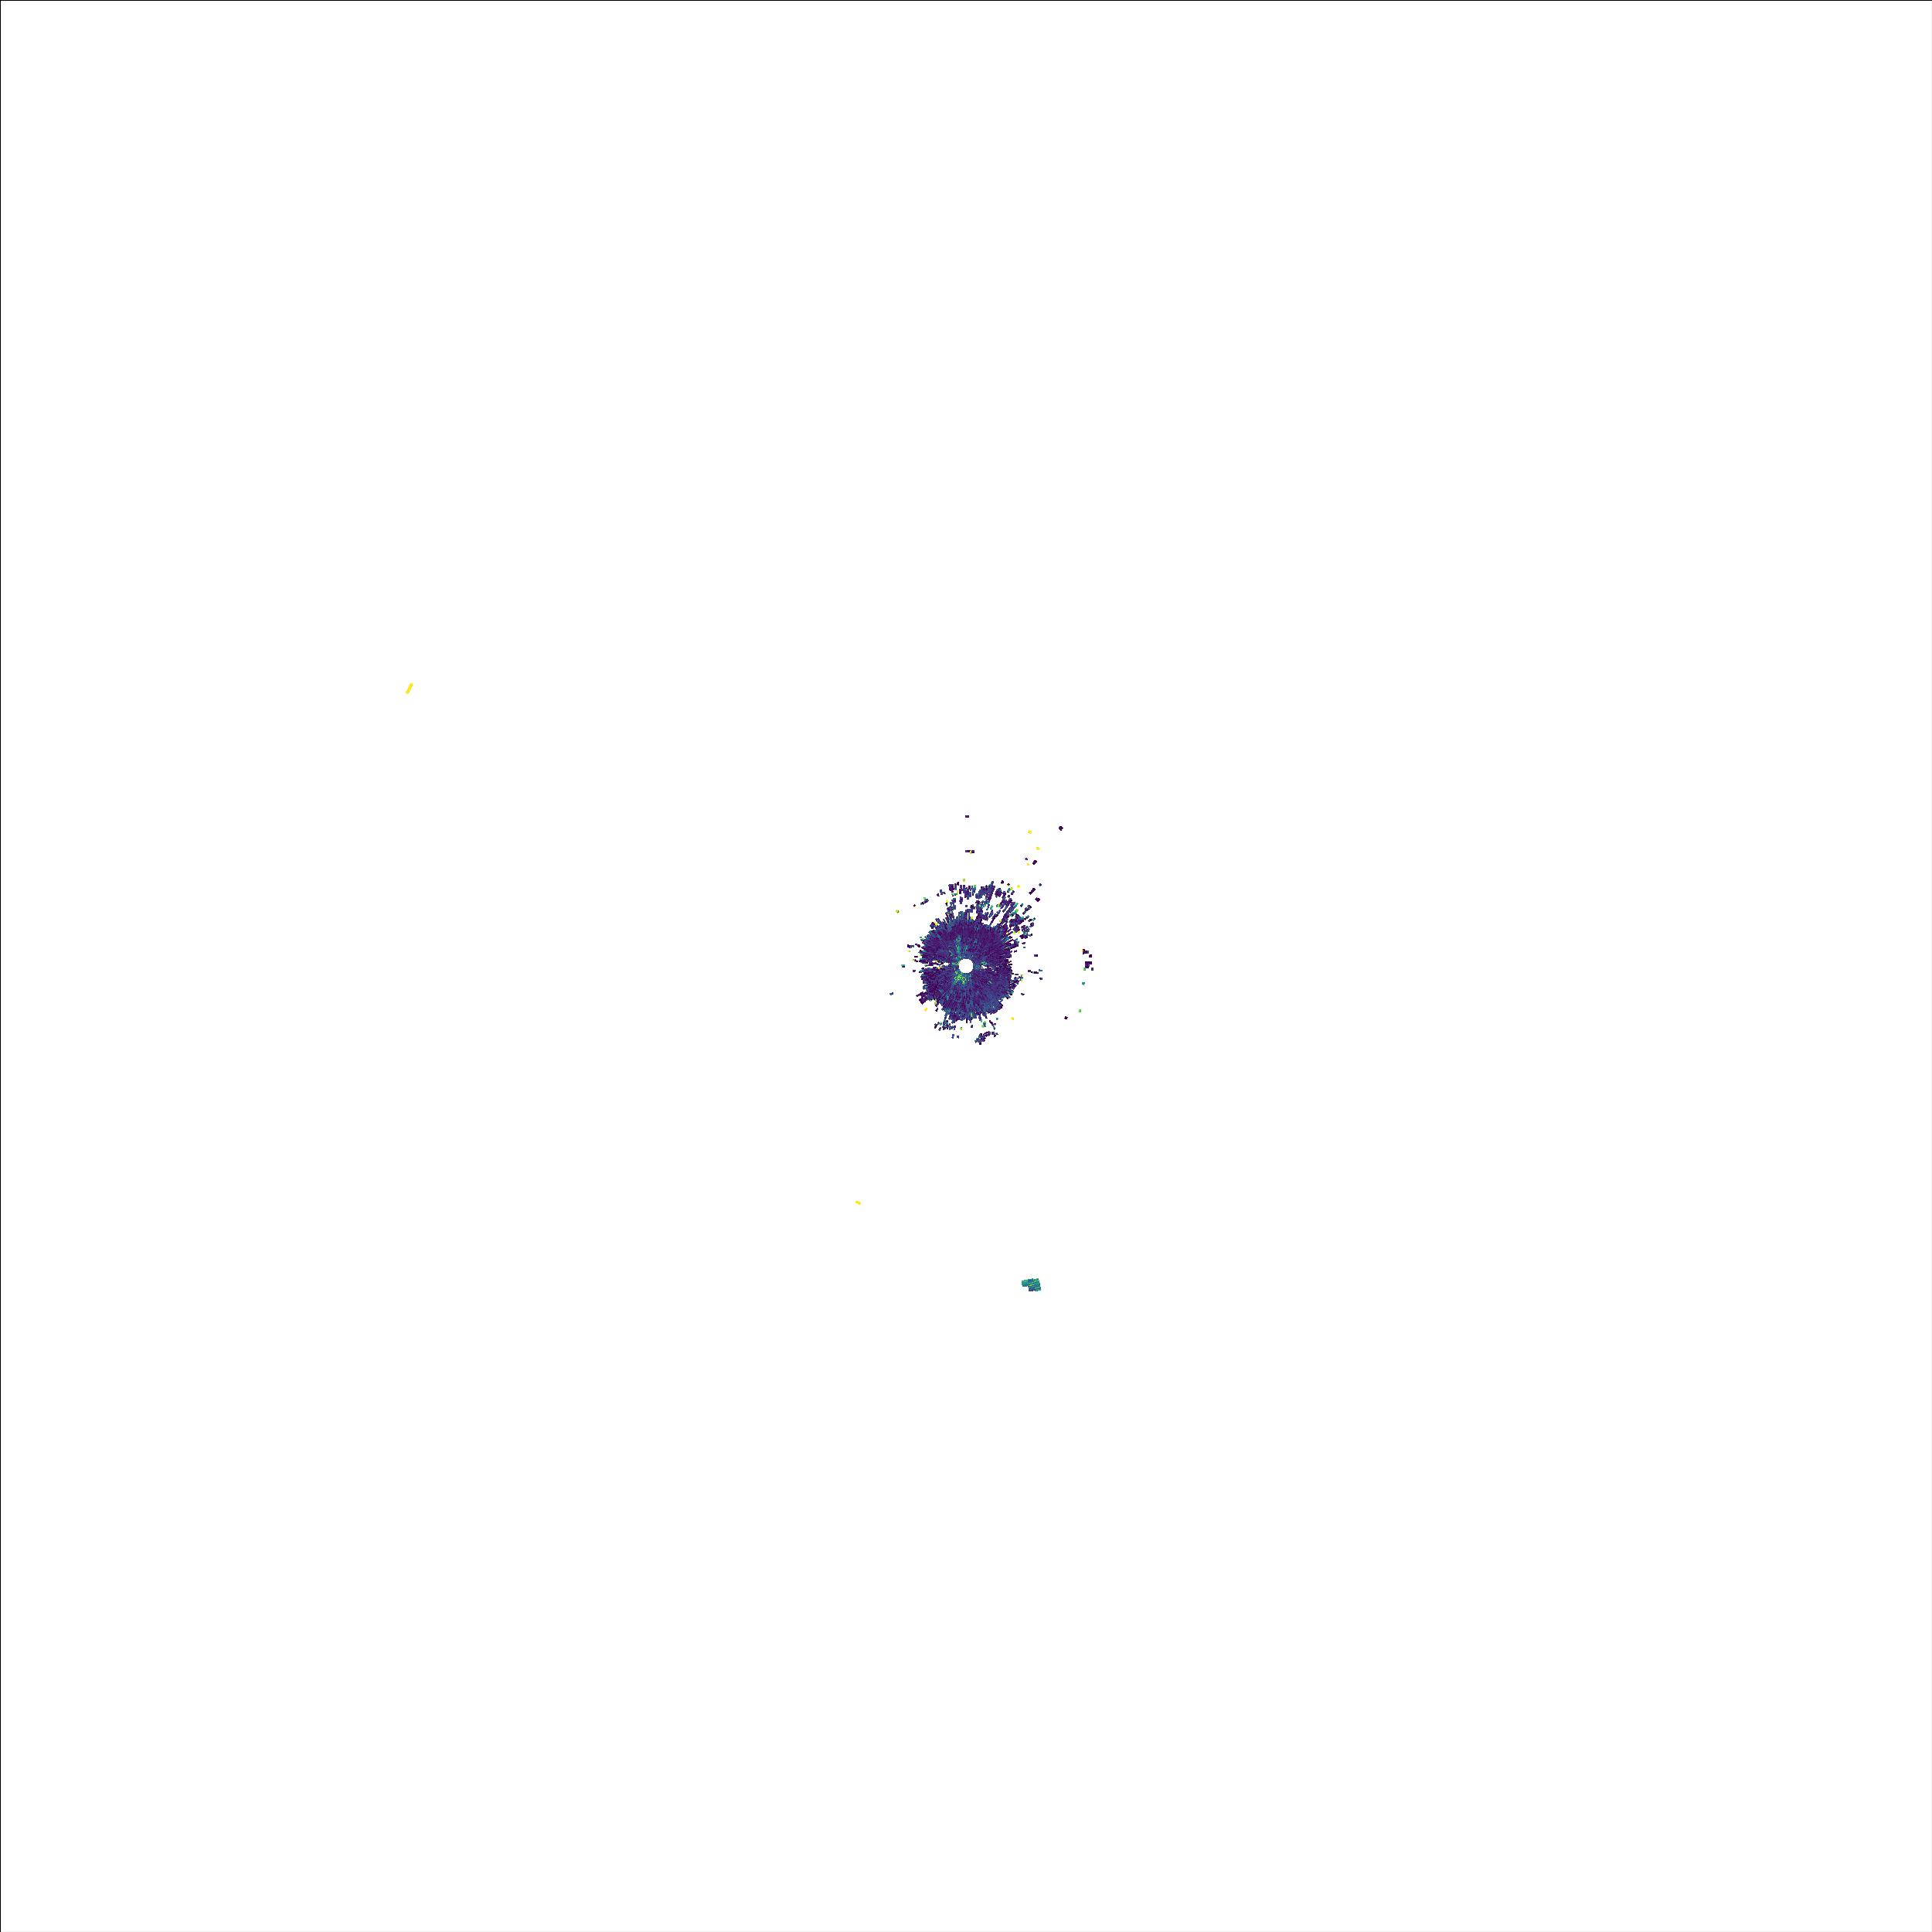fall: (1016, 1272, 1049, 1297)
